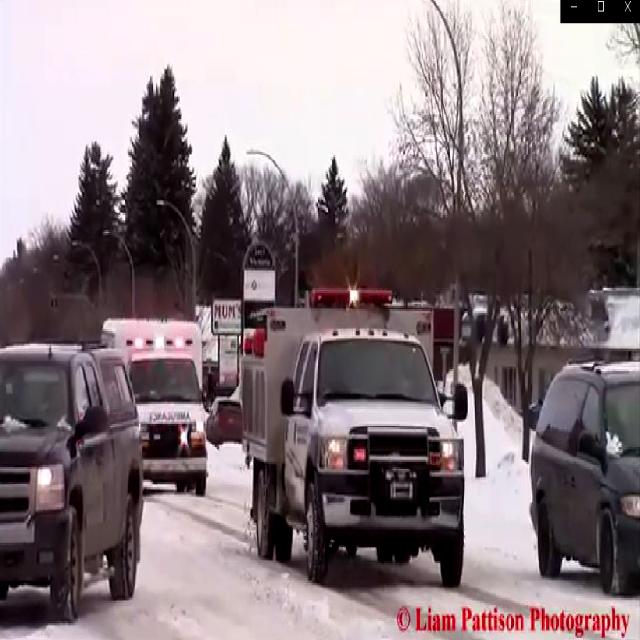emergency: (239, 286, 471, 600), (98, 311, 212, 493)
